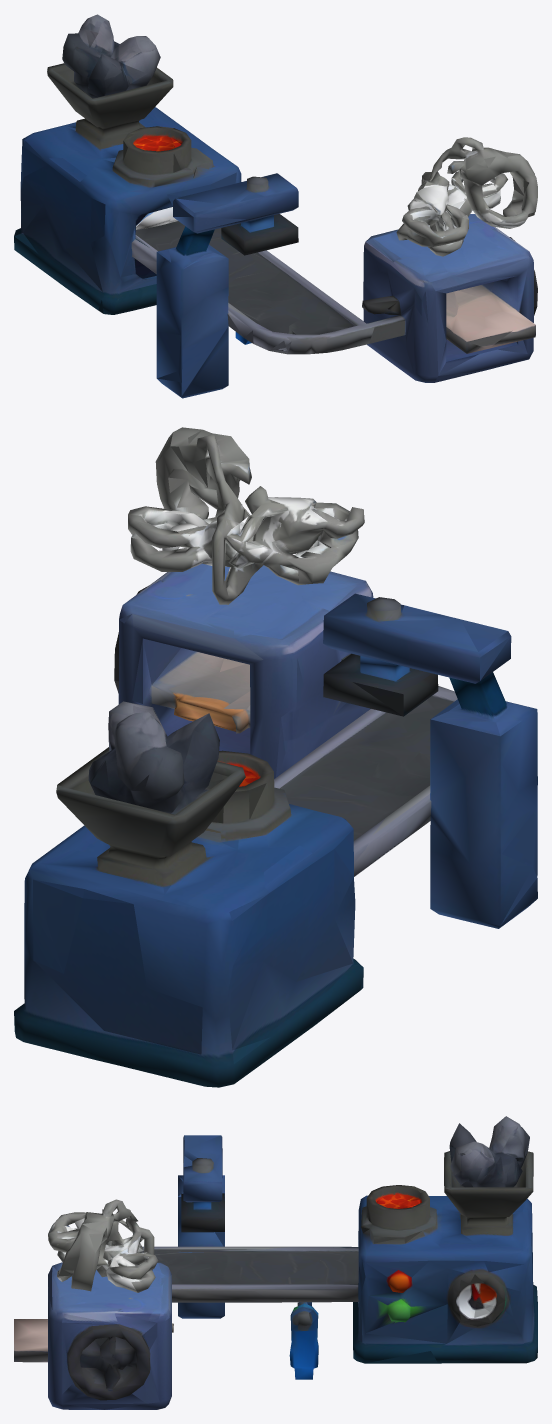
Rendered from Ironmachine.fbx.
The picture shows the model from 3 angles, top to bottom: view 1: azimuth 30°, elevation 25°; view 2: azimuth 150°, elevation 25°; view 3: azimuth 270°, elevation 25°; orthographic projection. The views are drawn at different scales.
Visible parts, largest first — view 1: tripo_node_fc0a347f; view 2: tripo_node_fc0a347f; view 3: tripo_node_fc0a347f.
Boxes of the visible parts, left/top/right/bottom form: tripo_node_fc0a347f: left=14, top=14, right=537, bottom=398; tripo_node_fc0a347f: left=14, top=427, right=537, bottom=1087; tripo_node_fc0a347f: left=14, top=1116, right=537, bottom=1409.
Size of the model in its own units: 62.41 by 50.65 by 99.96.
